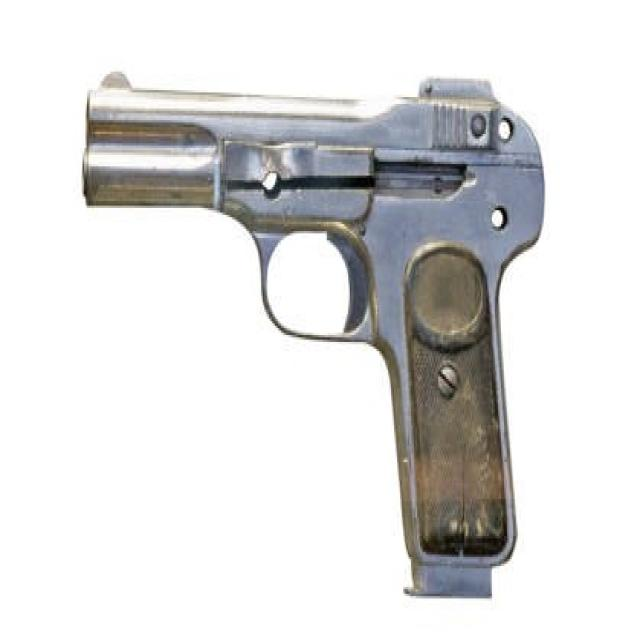pistol: (74, 66, 551, 606)
